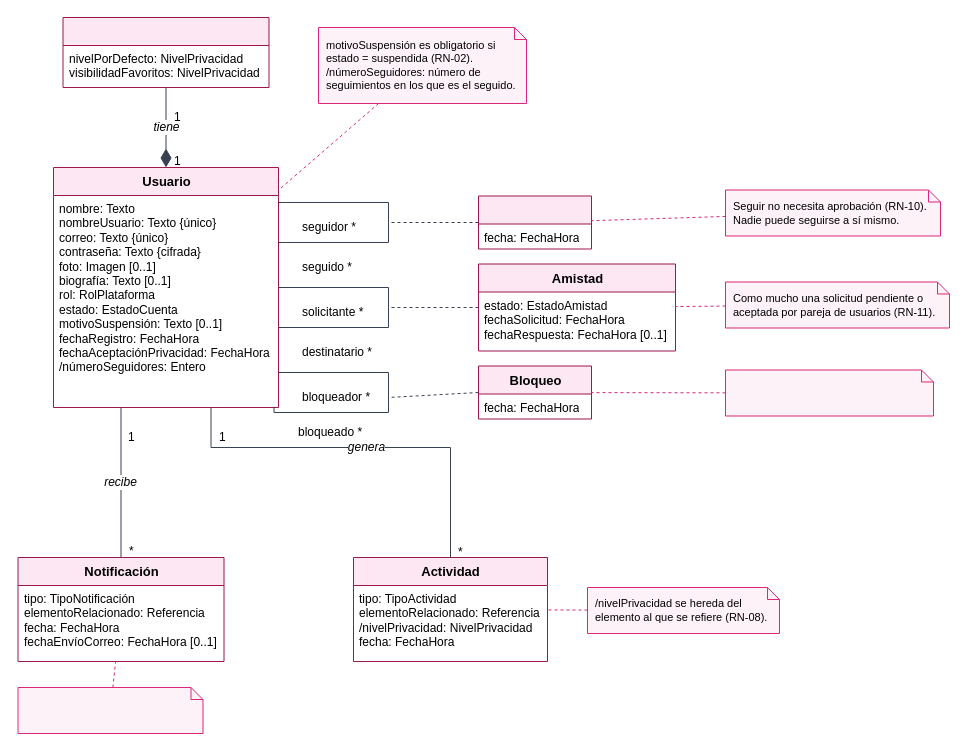
Some shapes in this 967 by 751 pixel diagram are drawn without their labels. Each missing label, with the box of its shape:
Al bloquear se eliminan el seguimiento y la amistad entre ambos (RN-12).: (724, 369, 934, 416)
ConfiguraciónPrivacidad: (62, 16, 269, 88)
Se envía por correo a la dirección con la que se registró (HU-11).: (17, 686, 203, 734)
Seguimiento: (478, 195, 592, 249)
